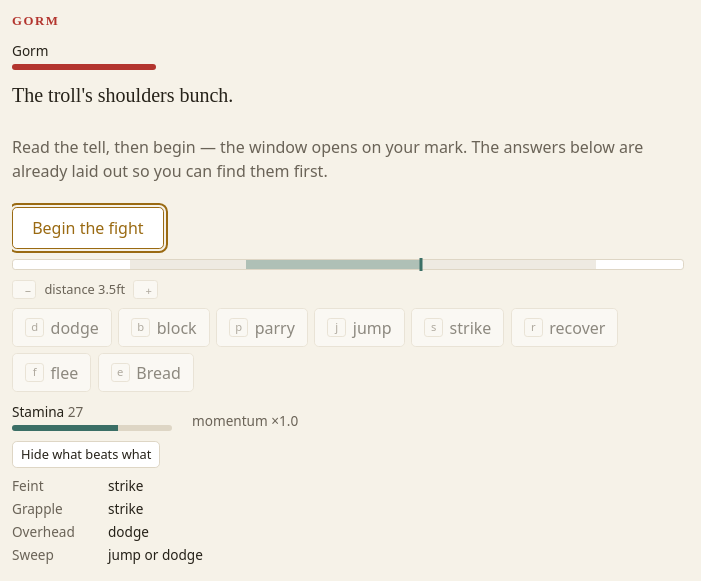
Test: the training wheels › show what beats what, until the player turns them off
Click the button "Begin the fight" at (88, 228), box x1=12 y1=207 x2=164 y2=249
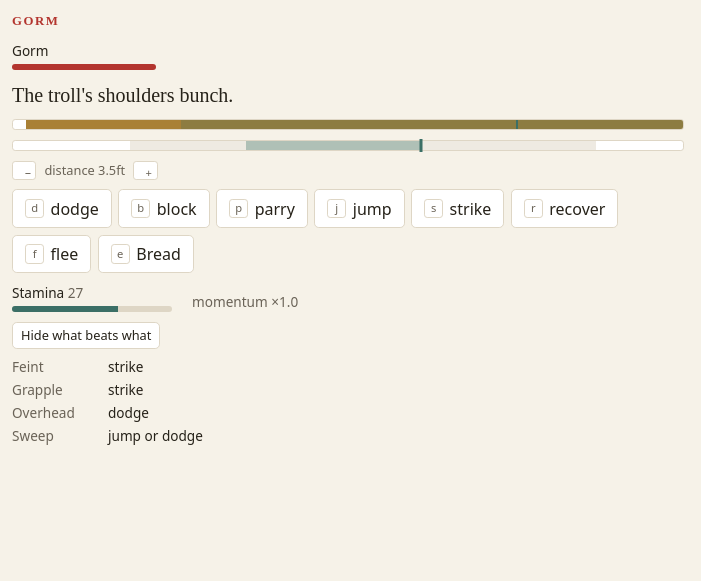
Expected: the text "feint" is shown, x1=12 y1=357 x2=44 y2=376
Click the button "Hide what beats what" at (86, 336), box x1=12 y1=322 x2=160 y2=349
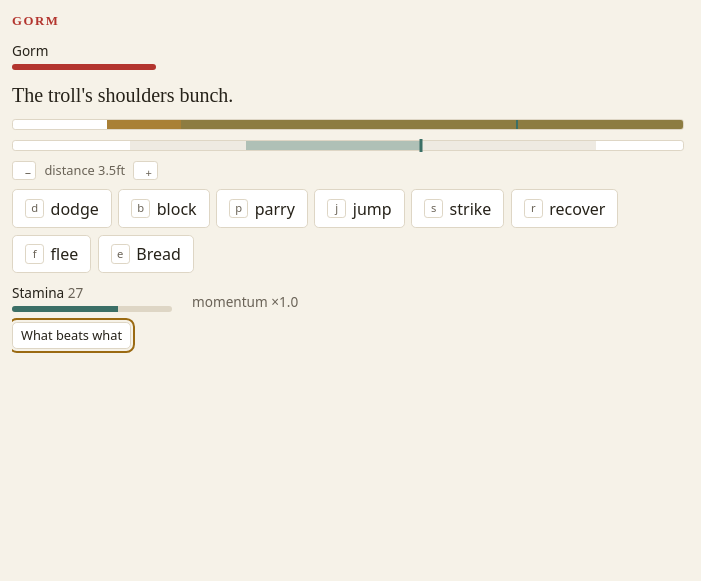
Expected: the text "feint" is gone
